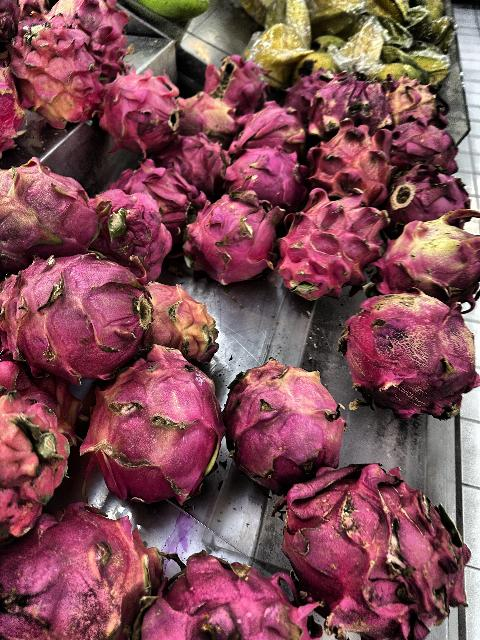buah-naga-belum-matang: (342, 282, 480, 414), (220, 358, 338, 472), (0, 388, 74, 534), (0, 169, 98, 261), (384, 212, 480, 298), (140, 280, 220, 364), (177, 92, 237, 140), (387, 82, 449, 125)
buah-naga-matang: (286, 458, 480, 638), (9, 508, 172, 640), (87, 352, 231, 496), (132, 550, 328, 640), (0, 255, 148, 363), (282, 196, 394, 300), (19, 19, 101, 127), (187, 188, 273, 282), (87, 191, 179, 277), (104, 66, 180, 146), (113, 150, 196, 222), (312, 119, 382, 195), (226, 146, 312, 207), (69, 0, 139, 74), (310, 76, 390, 134), (387, 120, 469, 174), (387, 173, 470, 219), (195, 56, 269, 104), (236, 105, 308, 153), (160, 140, 218, 180), (284, 66, 326, 114)
